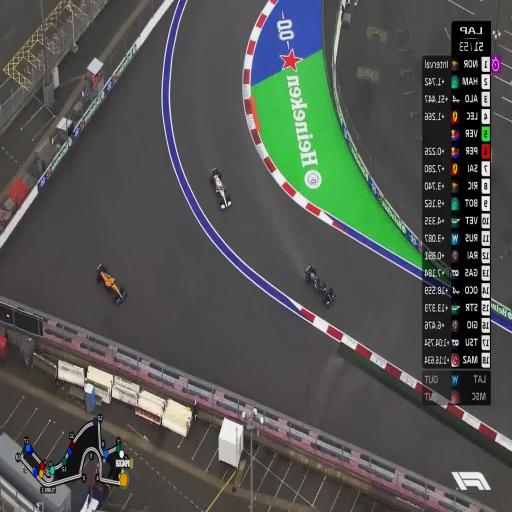f1_car: (306, 265, 336, 307), (97, 263, 127, 303), (210, 167, 232, 210)
